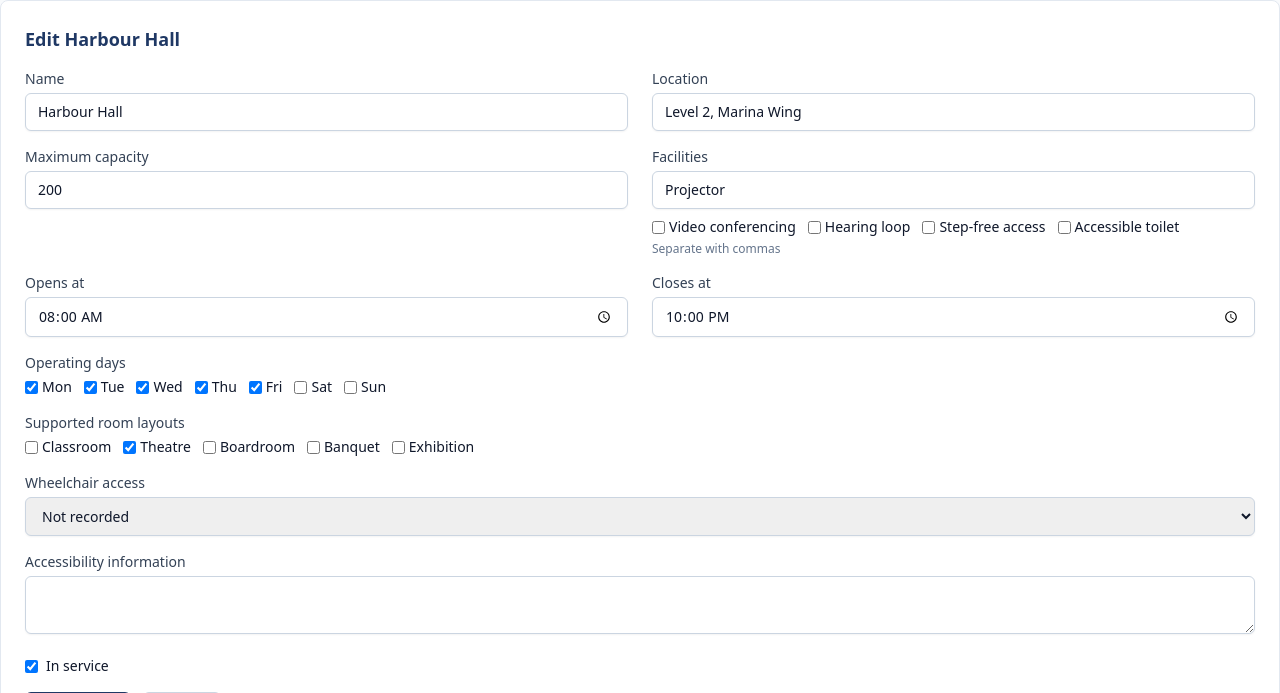
Test: SCRUM-5 venue layouts and facilities › AC2: unticking a common facility removes it, and typed facilities tick it
Type ", hearing LOOP" into the field labelled "Facilities".
click(954, 190); type(", hearing LOOP")  # box [652, 171, 1255, 209]
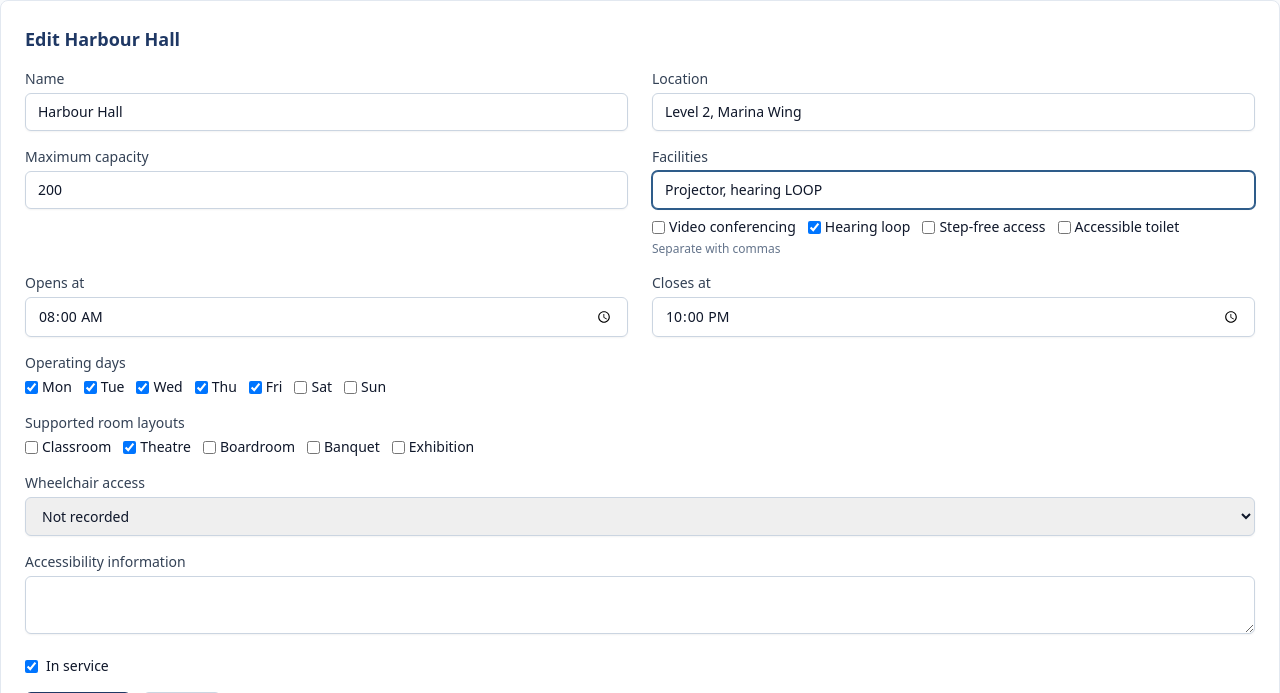
Expected: the checkbox labelled "Hearing loop" is checked
Click the checkbox labelled "Hearing loop".
click(814, 227)  # box [808, 220, 821, 234]
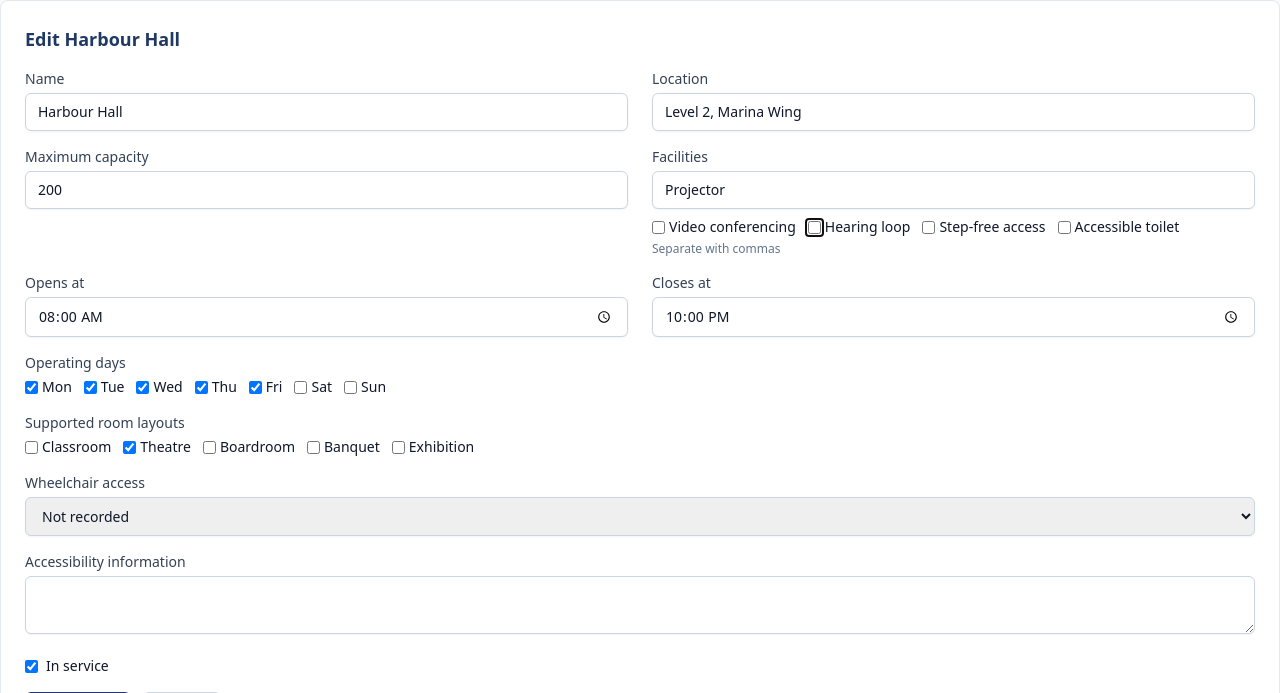
Expected: the checkbox labelled "Hearing loop" is not checked, [808, 220, 821, 234]
Expected: the field labelled "Facilities" holds "Projector", [652, 171, 1255, 209]
